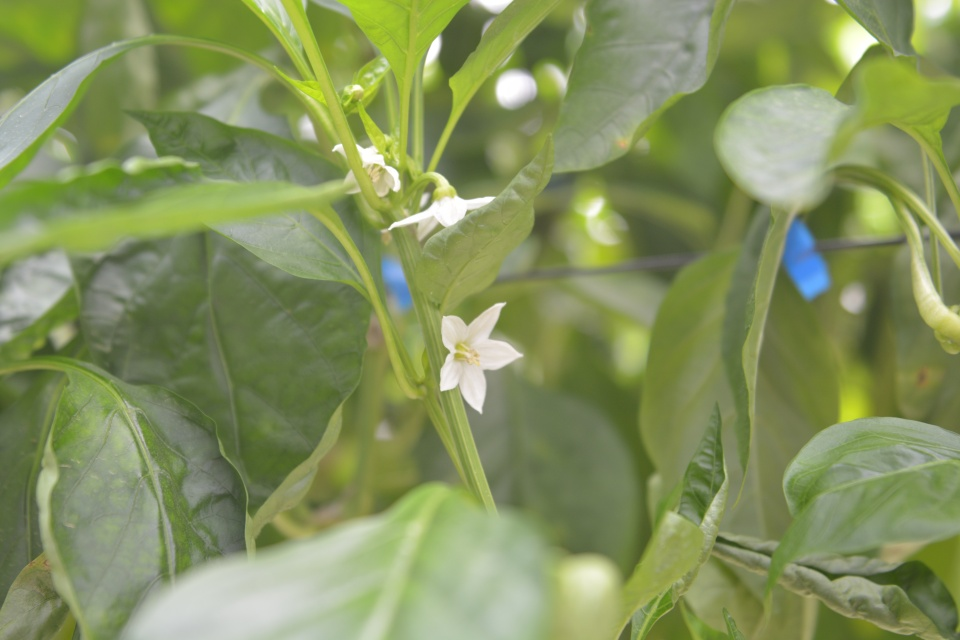flower: (437, 299, 524, 416), (331, 140, 402, 199), (385, 194, 496, 231)
